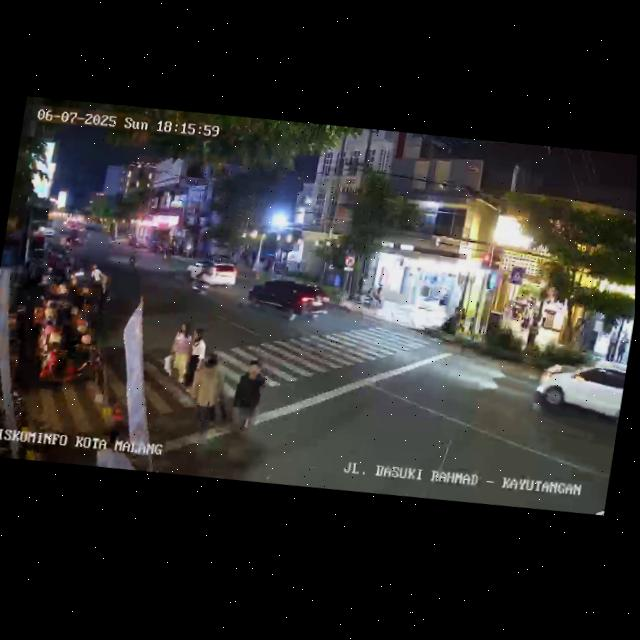car: (530, 354, 626, 436), (245, 270, 331, 328), (186, 255, 240, 293)
motorcycle: (188, 266, 213, 299), (127, 247, 141, 269)
person: (228, 356, 270, 440), (186, 352, 227, 433), (162, 321, 196, 392), (184, 326, 209, 394), (95, 272, 112, 311), (526, 313, 542, 349), (518, 308, 532, 340), (604, 332, 618, 361), (88, 263, 105, 286), (616, 335, 629, 362), (375, 283, 385, 309)
